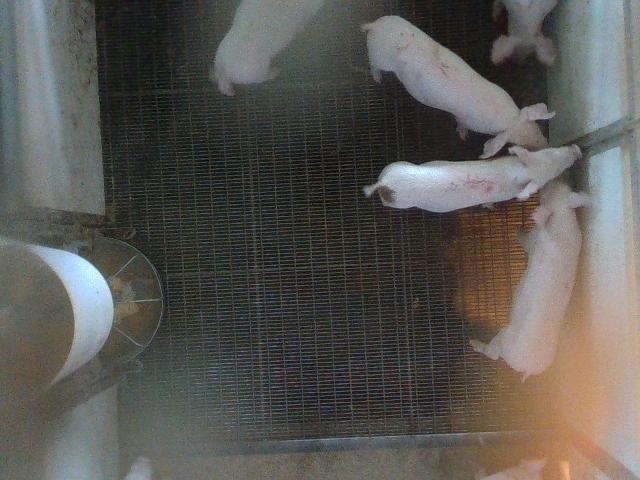pig-5: (364, 145, 581, 212)
